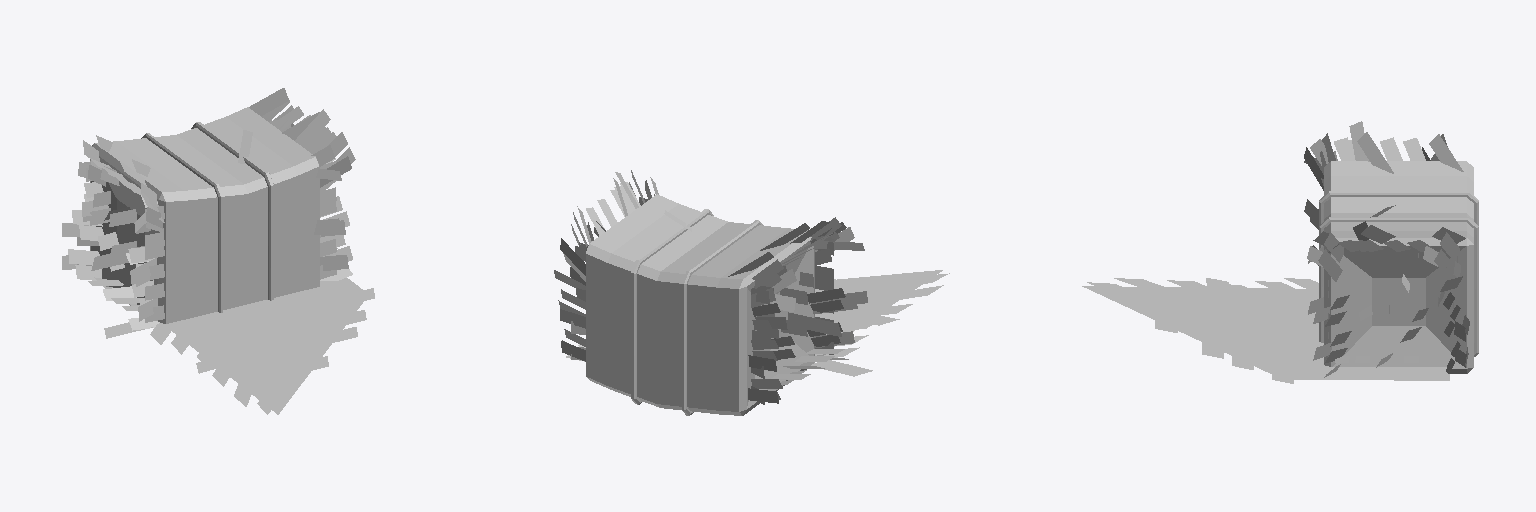
Rendered from hay.obj.
3 renders of one model, left to right at view 1: azimuth 30°, elevation 25°; view 2: azimuth 150°, elevation 25°; view 3: azimuth 270°, elevation 25°, orthographic.
Parts seen in each view (by area): view 1: hay:pPlane56; view 2: hay:pPlane56; view 3: hay:pPlane56.
Part boxes in pixels (bbox=[...]): hay:pPlane56: bbox=[62, 88, 374, 414]; hay:pPlane56: bbox=[554, 170, 949, 415]; hay:pPlane56: bbox=[1082, 121, 1478, 383].
Bounding box in the file's own units: 1.96 × 1.3 × 2.64.